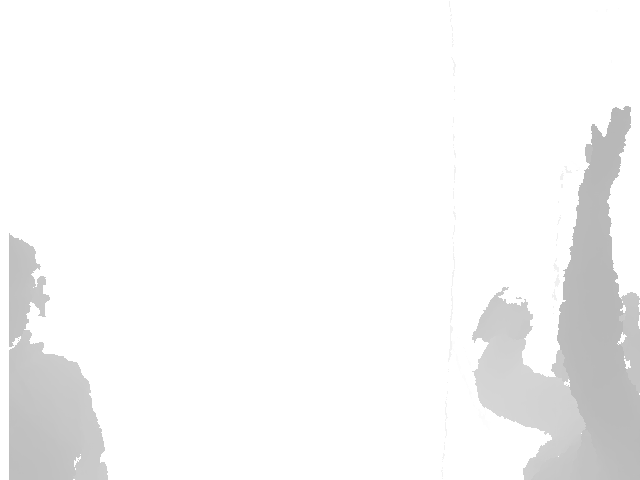hand: (581, 106, 633, 187)
head: (551, 290, 640, 392), (7, 230, 49, 350)
person: (470, 106, 640, 480), (9, 230, 111, 480)
